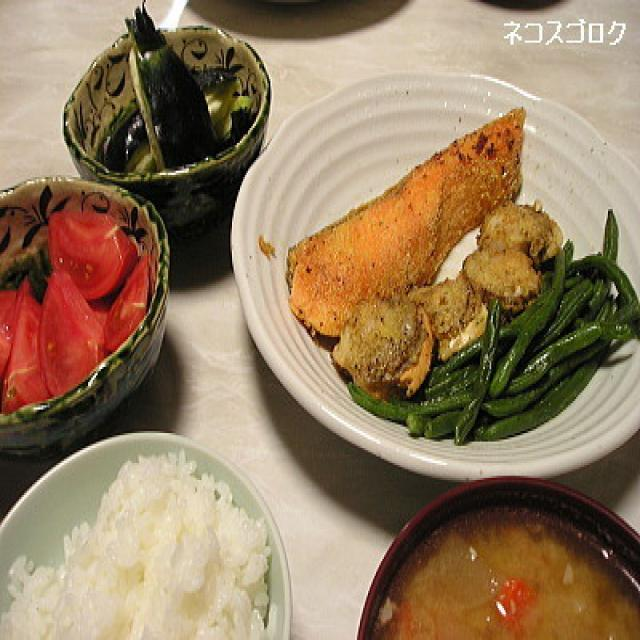熟制海鲜: (286, 92, 557, 367)
